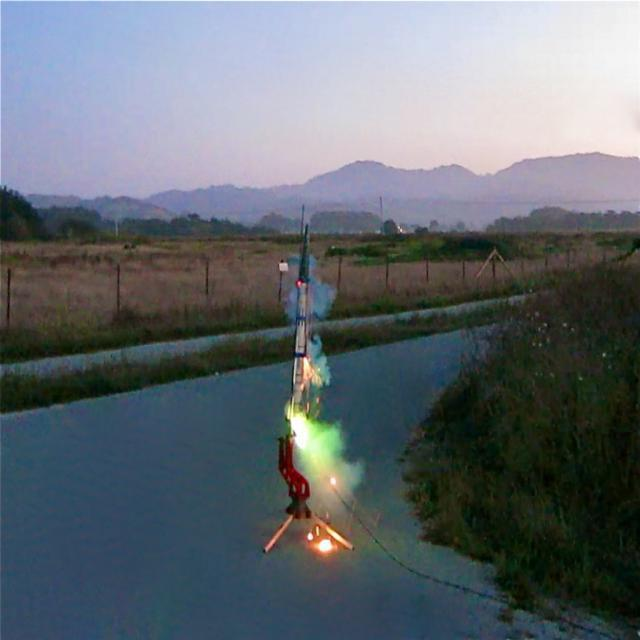missile: (288, 223, 326, 422)
